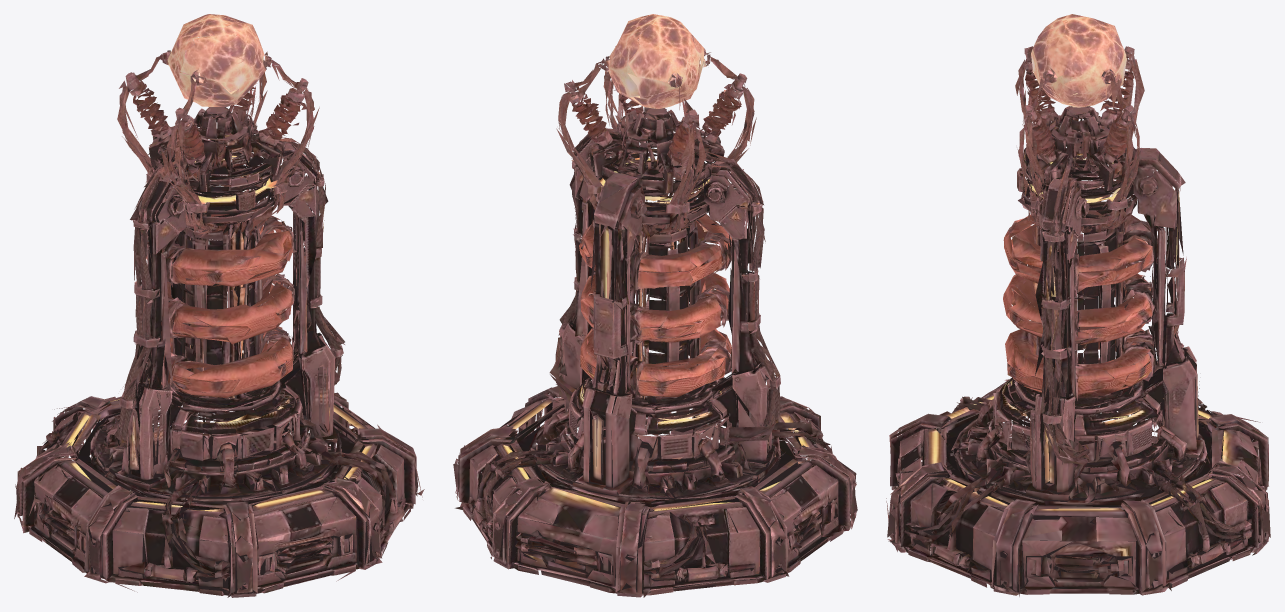
Rendered from tower_tesla_p1_t5.glb.
The picture shows the model from 3 angles, left to right: view 1: azimuth 30°, elevation 25°; view 2: azimuth 150°, elevation 25°; view 3: azimuth 270°, elevation 25°; orthographic projection.
Visible parts, largest first — view 1: body; view 2: body; view 3: body.
Boxes of the visible parts, x1=… form: body: x1=14, y1=14, x2=424, y2=597; body: x1=453, y1=14, x2=857, y2=597; body: x1=886, y1=14, x2=1270, y2=596.
Size of the model in its own units: 0.8211 by 1.17 by 0.8091.
Materials: 1 (1 with a texture image).
